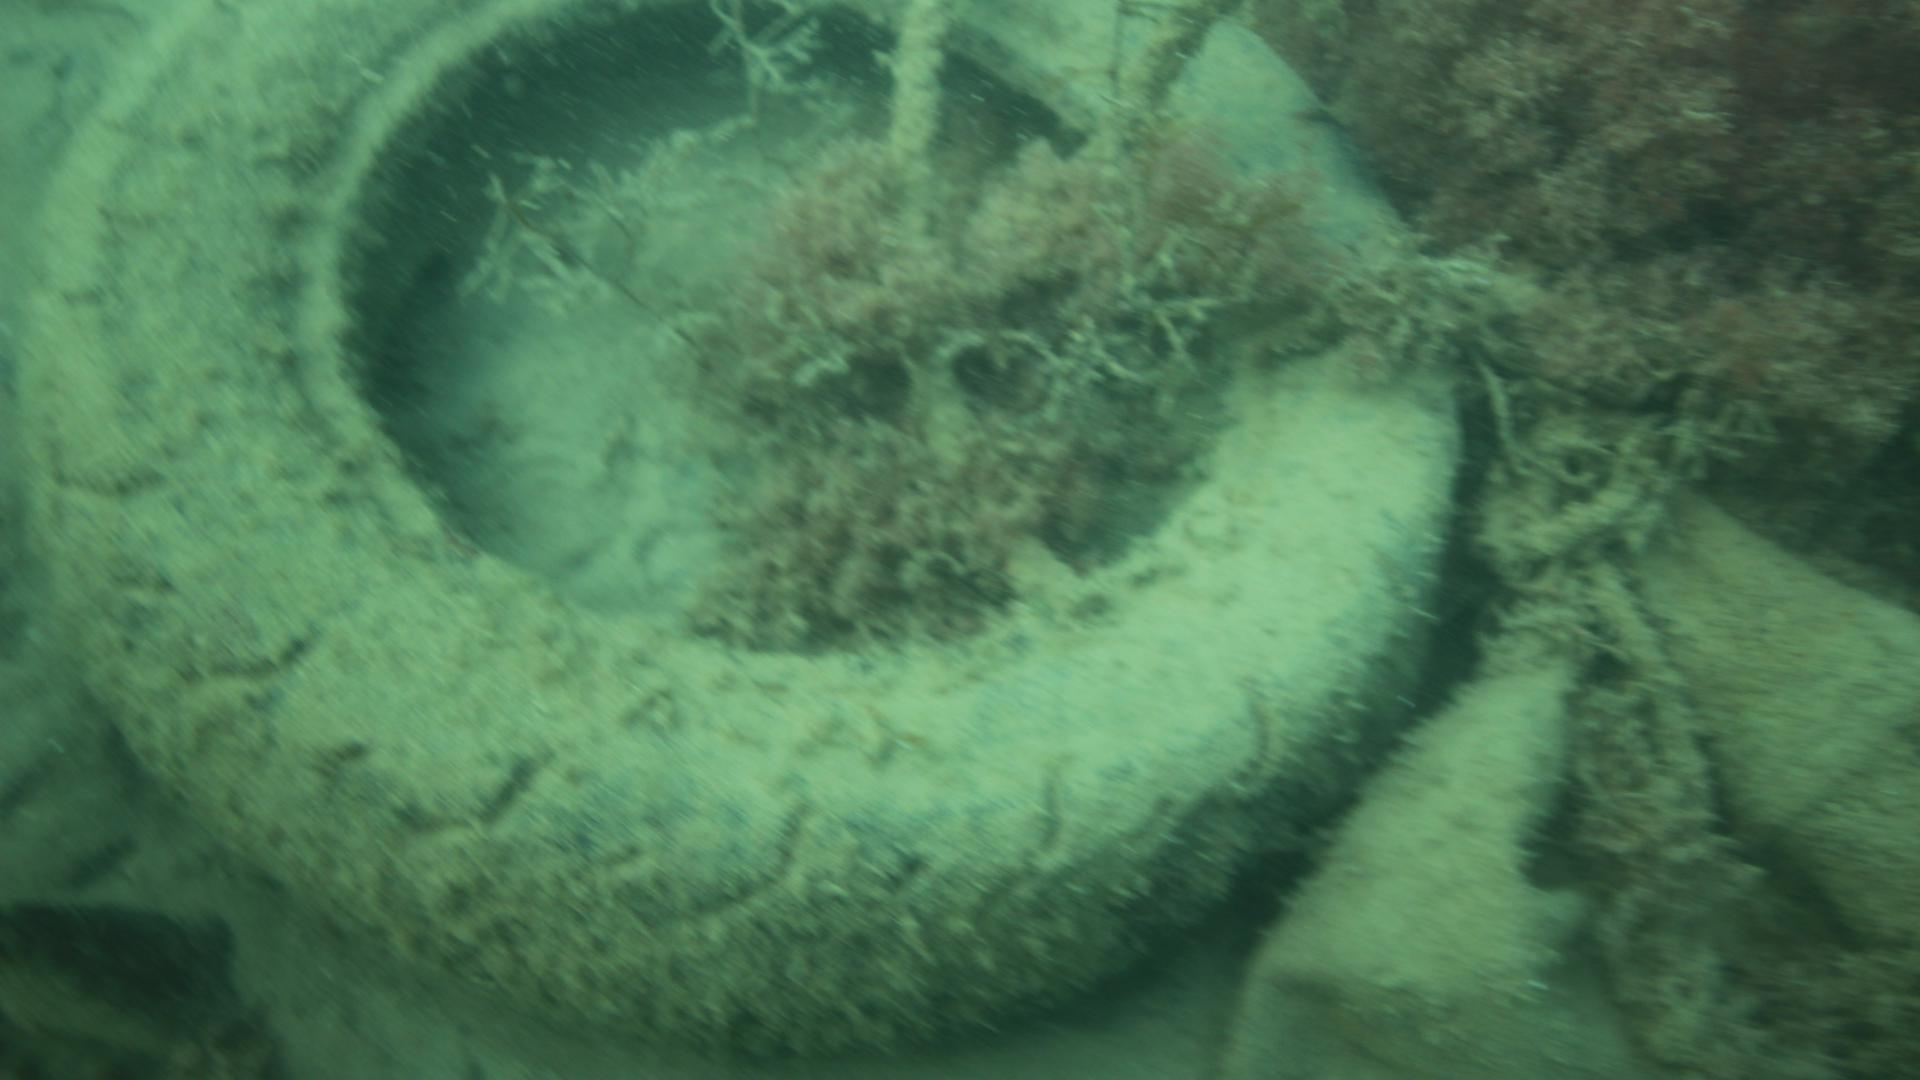tire: (0, 0, 1458, 1050)
